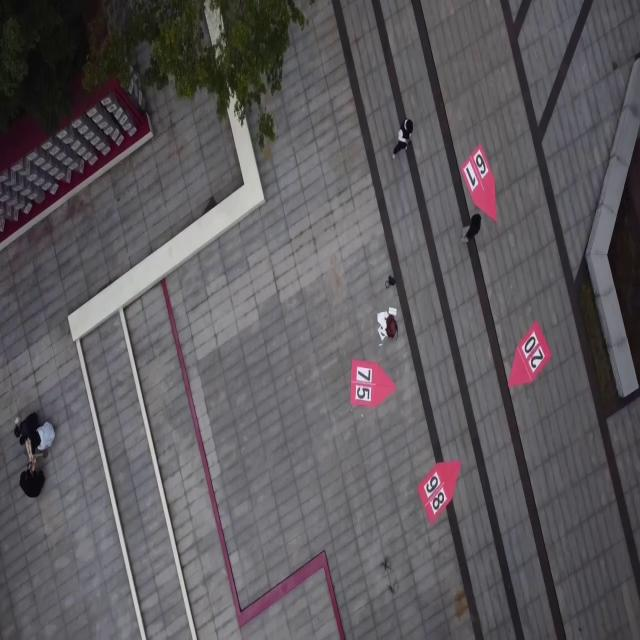-sign-: (0, 69, 152, 259), (508, 321, 553, 388), (459, 143, 496, 224), (417, 462, 461, 526), (350, 359, 395, 408)
